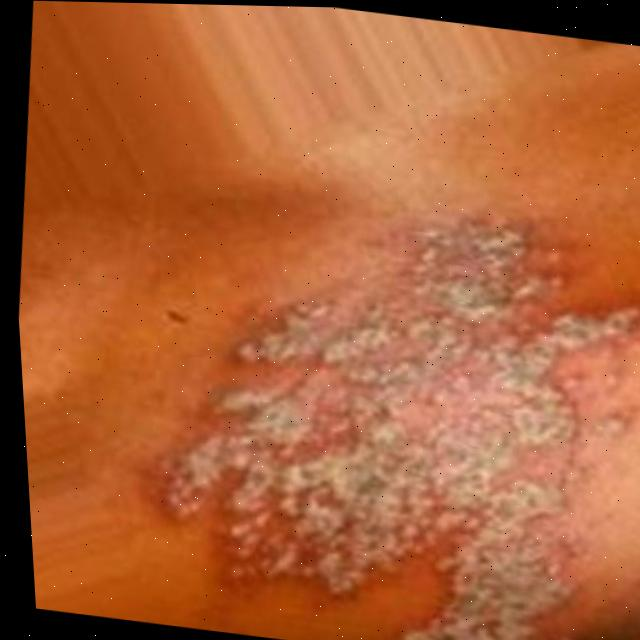Shingles: (149, 206, 640, 640)
